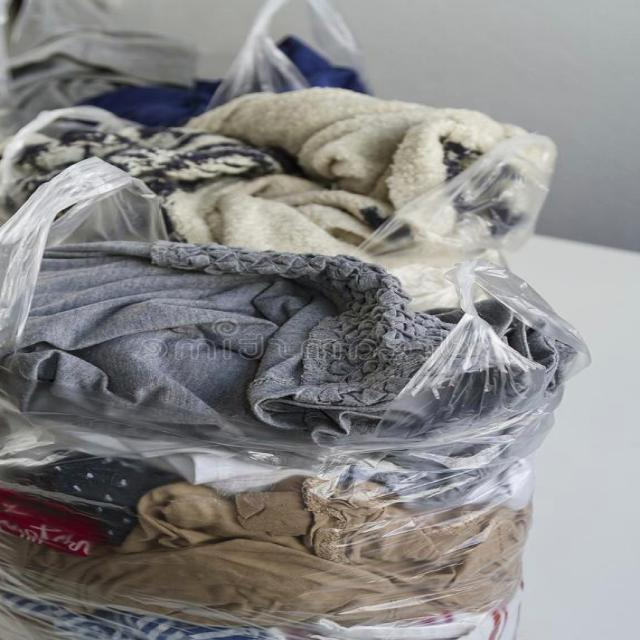clothes: (48, 110, 459, 447)
